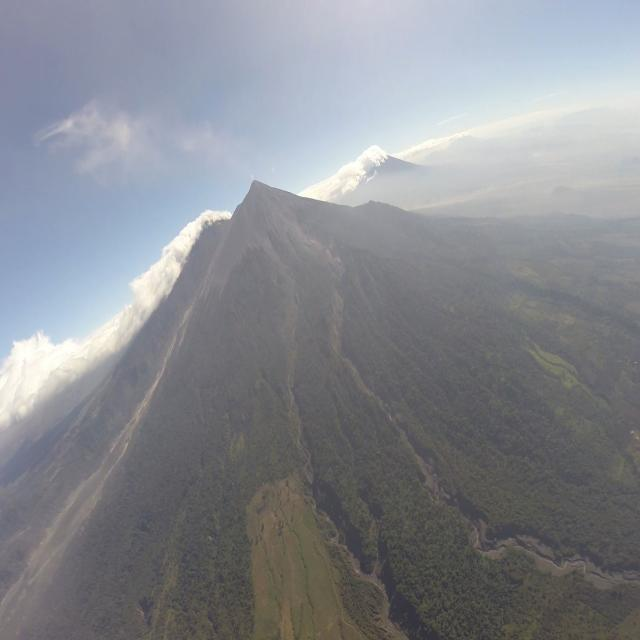Summit: (242, 177, 272, 205)
